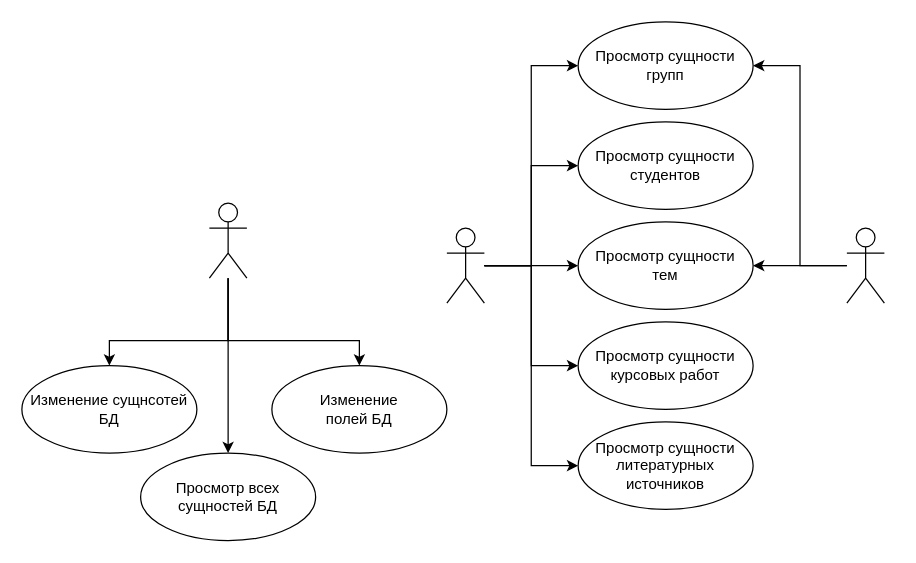
The diagram is 916 pixels wide and 563 high, and some of its shapes have lost their labels. Here are the shapes that lost their labels. From the top down, the centre of each, then its label:
At (227,240): "Администратор".
At (465,265): "Преподаватель".
At (865,265): "Студент".
